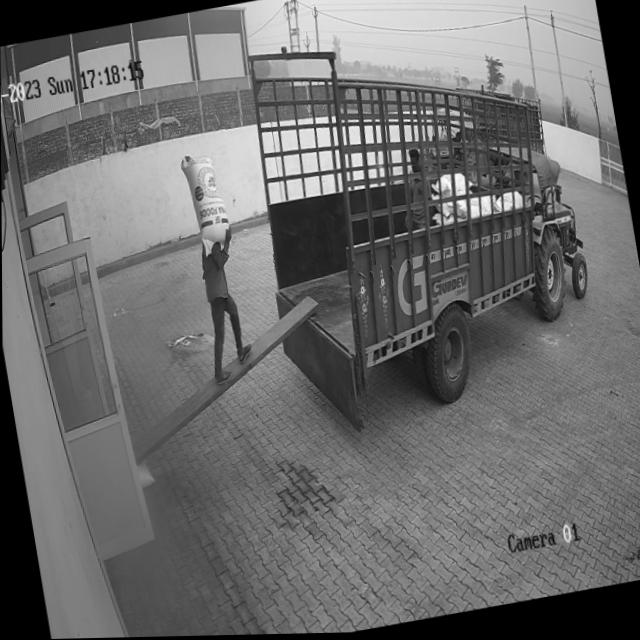sack: (178, 150, 232, 258)
